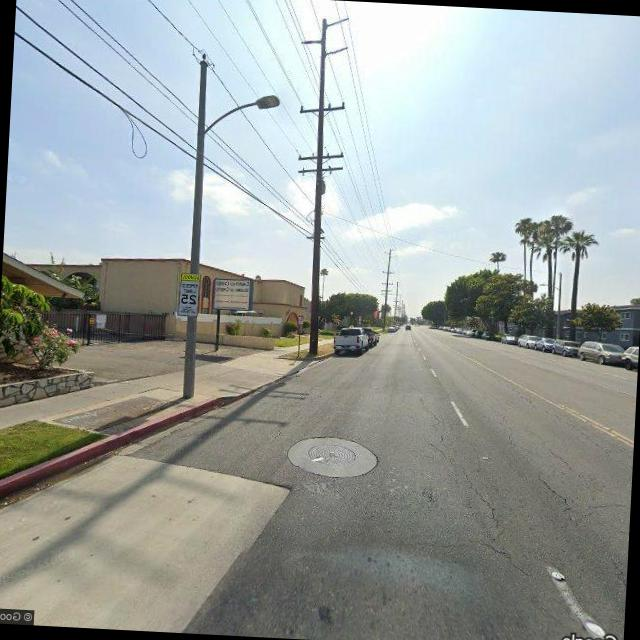pothole: (410, 397, 533, 573), (538, 472, 583, 520)
